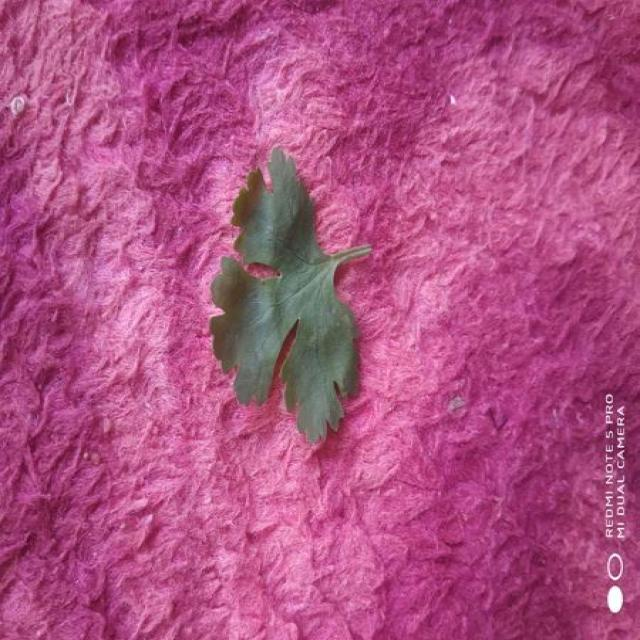coriender: (210, 150, 370, 442)
